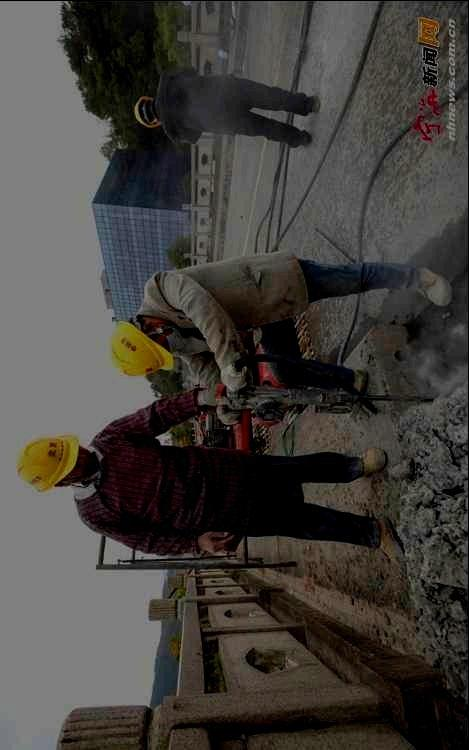helmet: (15, 432, 99, 493), (107, 314, 183, 378), (134, 95, 161, 128)
